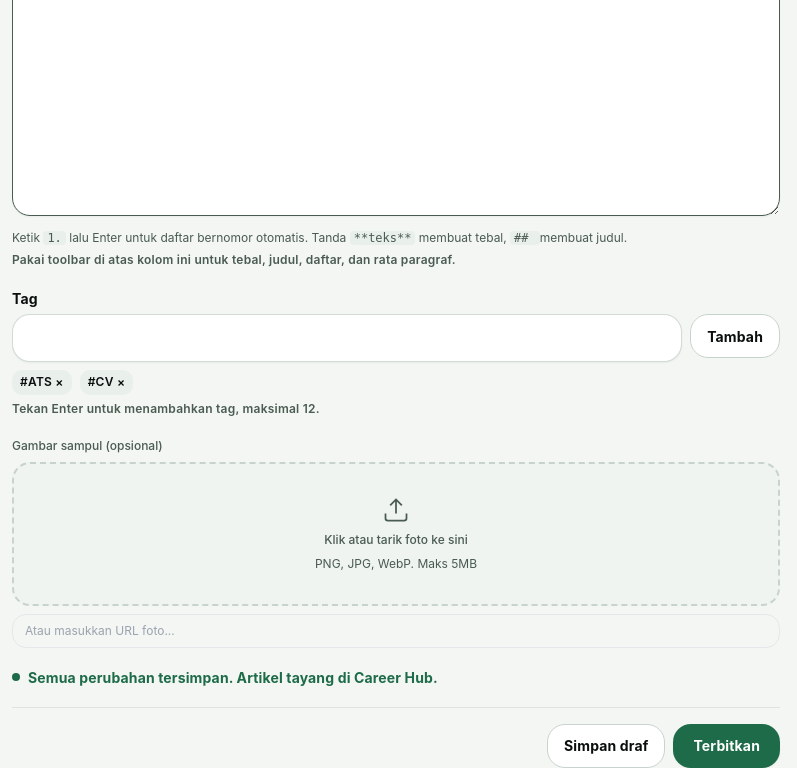
Test: form artikel Career Hub memberitahu hasil simpan › kegagalan simpan tetap menampilkan pesan error, bukan toast sukses
(page scrolled)
Expected: the text "Semua perubahan tersimpan. Artikel tayang di Career Hub." is shown, [12,668,438,686]
Click the button "Terbitkan" at x=727, y=746, box [674,724,780,767]
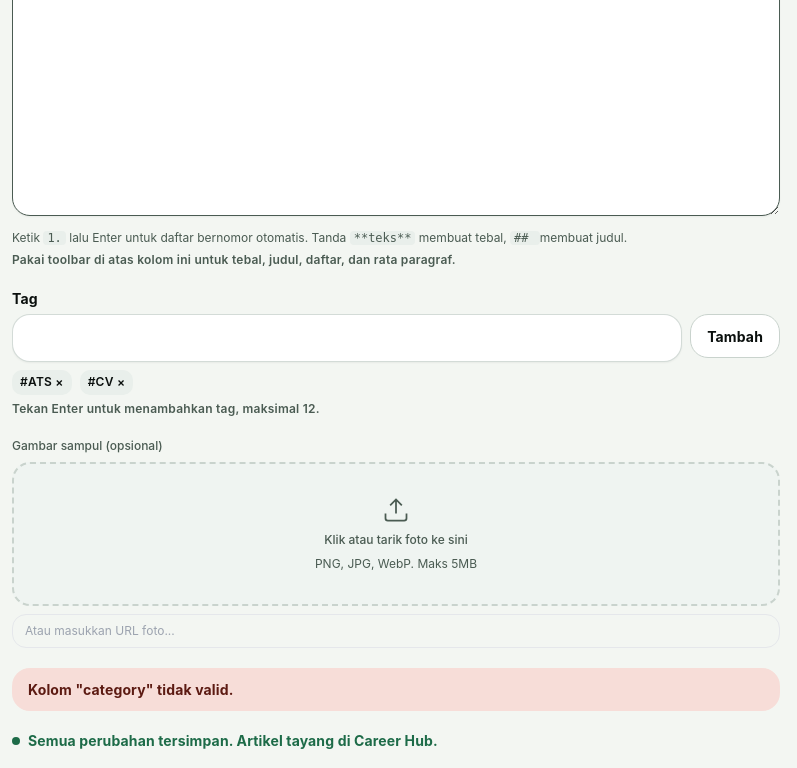
Now the message "Kolom \"category\" tidak valid." reads "Kolom \"category\" tidak valid.", box [28,680,234,698]
